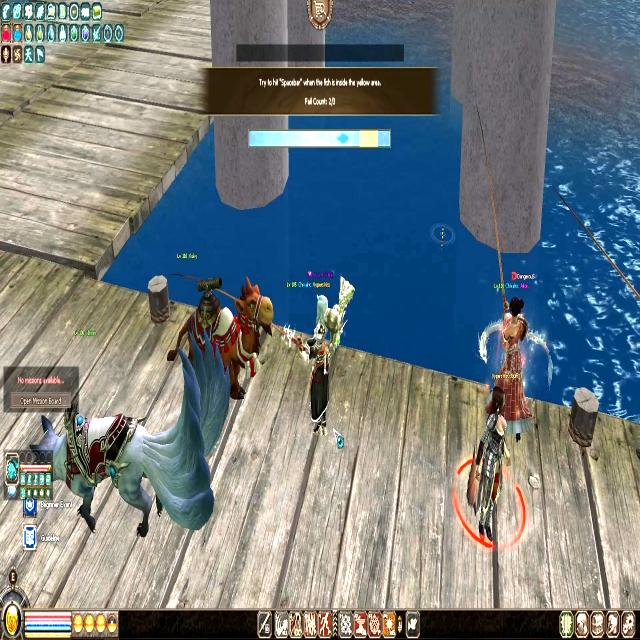fishes: (336, 130, 350, 146)
